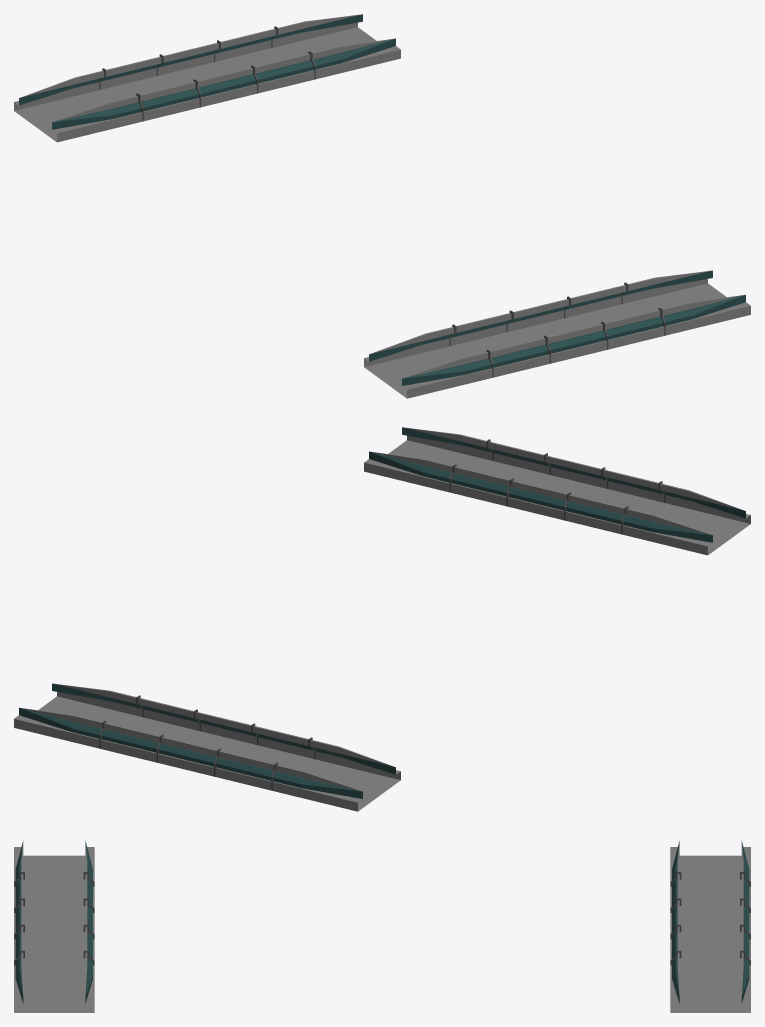
The model's file is Coast Town Test Track bridge.fbx.
3 renders of one model, top to bottom at view 1: azimuth 30°, elevation 25°; view 2: azimuth 150°, elevation 25°; view 3: azimuth 270°, elevation 25°, orthographic. The views are drawn at different scales.
Visible parts, largest first — view 1: _(Loose Entity); view 2: _(Loose Entity); view 3: _(Loose Entity).
Part boxes in pixels (x1=…): _(Loose Entity): x1=14, y1=14, x2=750, y2=398; _(Loose Entity): x1=14, y1=427, x2=750, y2=811; _(Loose Entity): x1=14, y1=841, x2=750, y2=1012.
Size of the model in its own units: 12000 by 800 by 23754.
